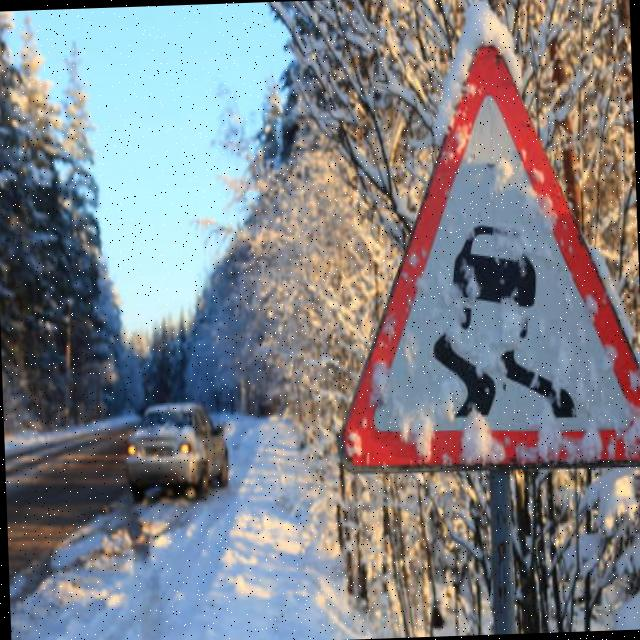road_slippery: (323, 44, 640, 478)
